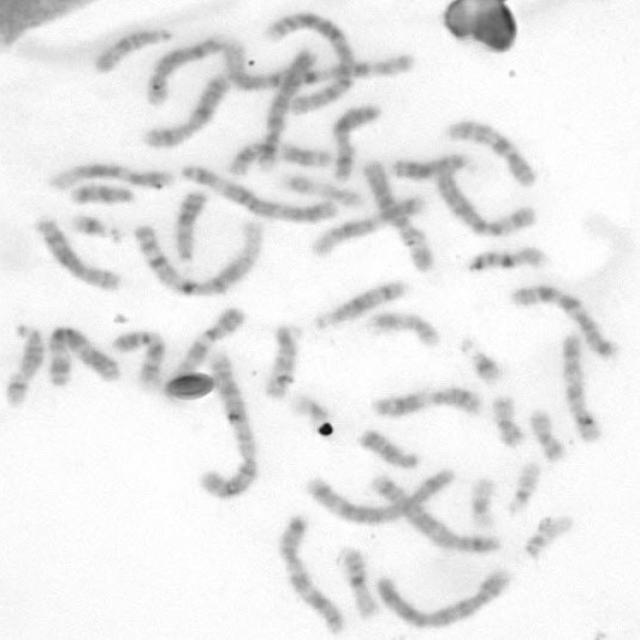A1: (129, 215, 266, 299), (215, 39, 419, 94)
A2: (256, 7, 356, 117), (192, 348, 260, 502)
A3: (177, 159, 340, 225), (43, 321, 123, 389)
B4: (372, 563, 514, 630), (251, 42, 319, 174)
B5: (367, 470, 500, 556), (300, 461, 457, 526)
C10: (442, 113, 540, 188), (557, 330, 604, 444)
C11: (222, 136, 336, 176), (367, 382, 482, 419)
C12: (307, 191, 426, 259), (44, 160, 174, 192)
C6: (356, 153, 439, 274), (428, 152, 539, 237)
C7: (506, 280, 622, 361), (276, 510, 348, 636)
C8: (30, 210, 124, 294), (141, 30, 227, 107)
C9: (161, 302, 247, 392), (107, 326, 168, 392)
D13: (171, 186, 210, 265), (387, 148, 473, 180)
D14: (310, 276, 410, 331), (0, 316, 47, 408)
D15: (89, 24, 173, 74), (259, 320, 303, 401)
E16: (335, 542, 380, 621), (463, 242, 550, 274)
E17: (279, 168, 365, 210), (364, 307, 441, 349)
E18: (354, 424, 421, 471), (65, 178, 137, 207)
F19: (463, 470, 499, 530), (286, 390, 332, 427)
F20: (524, 405, 568, 463), (486, 388, 527, 449)
G21: (456, 334, 505, 386), (65, 208, 125, 245)
G22: (520, 510, 575, 560), (502, 457, 542, 516)
X: (136, 68, 232, 150), (326, 98, 384, 185)
